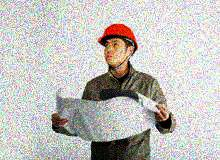helmet: (96, 23, 140, 70)
